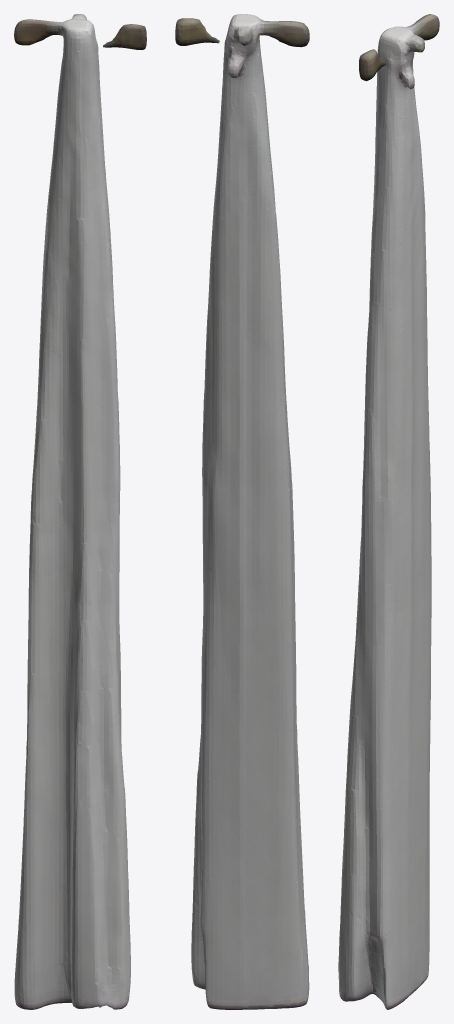
The model's file is white_curtains_on_right_window_000.glb.
3 views of the same model, side by side, from view 1: azimuth 30°, elevation 25°; view 2: azimuth 210°, elevation 25°; view 3: azimuth 270°, elevation 25° (orthographic). The views are drawn at different scales.
Parts seen in each view (by area): view 1: phase2_final_white_curtains_on_right_window_000.obj; view 2: phase2_final_white_curtains_on_right_window_000.obj; view 3: phase2_final_white_curtains_on_right_window_000.obj.
Part boxes in pixels (x1,y1,x2,y2): phase2_final_white_curtains_on_right_window_000.obj: (14,14,146,1009); phase2_final_white_curtains_on_right_window_000.obj: (175,14,309,1009); phase2_final_white_curtains_on_right_window_000.obj: (338,14,439,1009).
Size of the model in its own units: 0.1325 by 1.13 by 0.1075.
Materials: 1 (1 with a texture image).
